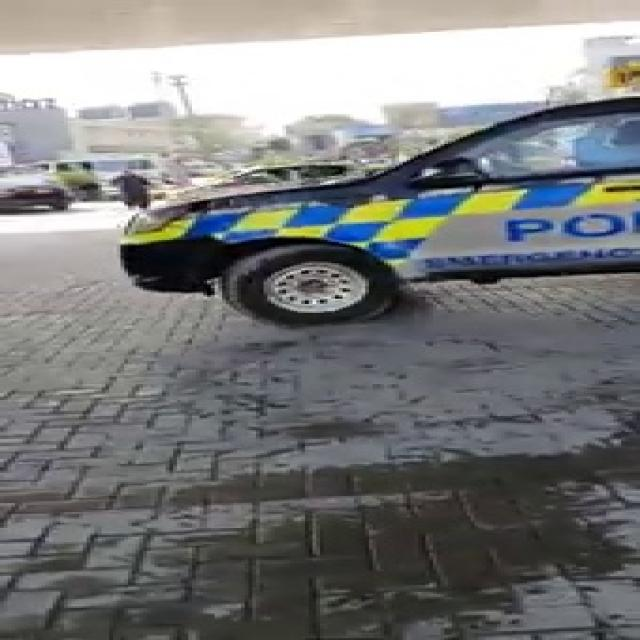police: (37, 41, 640, 336)
